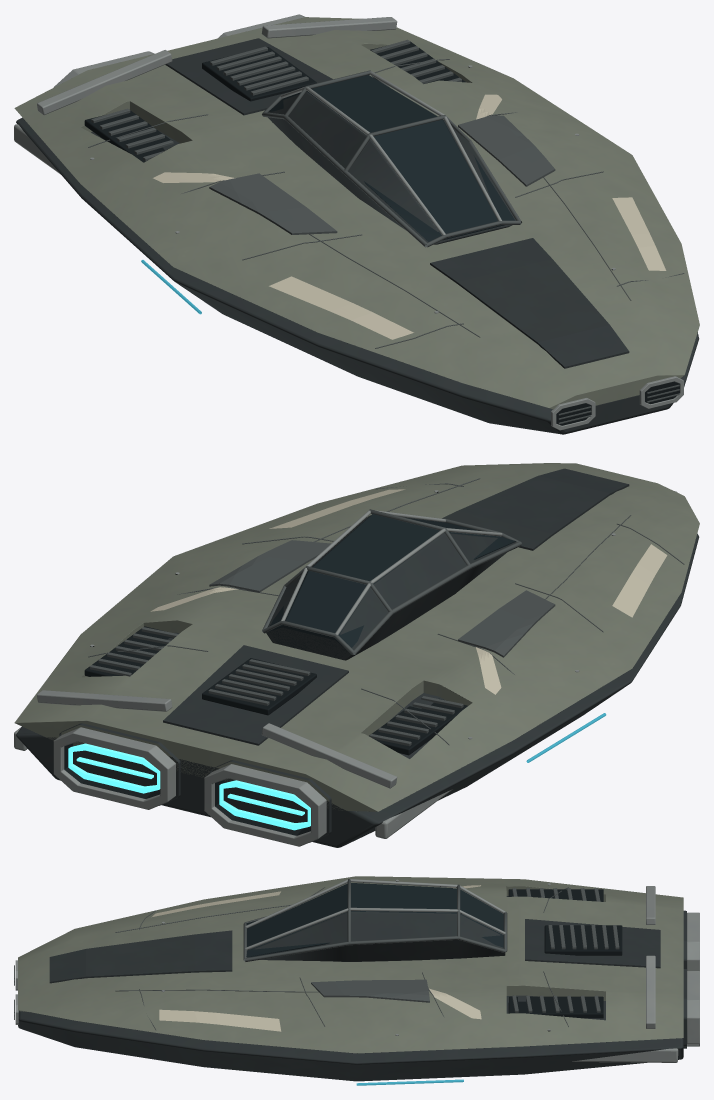
Rendered from rook.glb.
3 views of the same model, one above another, from view 1: azimuth 30°, elevation 25°; view 2: azimuth 150°, elevation 25°; view 3: azimuth 270°, elevation 25° (orthographic). The views are drawn at different scales.
Visible parts, largest first — view 1: rook_Ceramic_Geometry, rook_carbon_Geometry, rook_edge_Geometry, rook_glass_Geometry, rook_metal_Geometry, rook_vent_Geometry, rook_accent_Geometry; view 2: rook_Ceramic_Geometry, rook_carbon_Geometry, rook_edge_Geometry, rook_metal_Geometry, rook_glass_Geometry, rook_vent_Geometry, rook_Ion_Geometry, rook_accent_Geometry; view 3: rook_Ceramic_Geometry, rook_carbon_Geometry, rook_edge_Geometry, rook_glass_Geometry, rook_metal_Geometry, rook_vent_Geometry, rook_accent_Geometry, rook_Induction_Geometry.
Boxes of the visible parts, x1=… form: rook_Ceramic_Geometry: x1=14, y1=17, x2=699, y2=409; rook_carbon_Geometry: x1=16, y1=38, x2=699, y2=434; rook_edge_Geometry: x1=88, y1=39, x2=684, y2=424; rook_glass_Geometry: x1=269, y1=75, x2=514, y2=241; rook_metal_Geometry: x1=14, y1=14, x2=683, y2=430; rook_vent_Geometry: x1=84, y1=41, x2=679, y2=425; rook_accent_Geometry: x1=153, y1=94, x2=666, y2=339; rook_Ceramic_Geometry: x1=14, y1=463, x2=699, y2=811; rook_carbon_Geometry: x1=16, y1=468, x2=699, y2=847; rook_edge_Geometry: x1=88, y1=478, x2=684, y2=746; rook_metal_Geometry: x1=14, y1=490, x2=677, y2=846; rook_glass_Geometry: x1=269, y1=514, x2=516, y2=657; rook_vent_Geometry: x1=64, y1=626, x2=467, y2=835; rook_Ion_Geometry: x1=68, y1=743, x2=310, y2=830; rook_accent_Geometry: x1=150, y1=489, x2=667, y2=694; rook_Ceramic_Geometry: x1=18, y1=876, x2=683, y2=1053; rook_carbon_Geometry: x1=18, y1=896, x2=686, y2=1081; rook_edge_Geometry: x1=14, y1=879, x2=619, y2=1029; rook_glass_Geometry: x1=246, y1=883, x2=503, y2=956; rook_metal_Geometry: x1=15, y1=879, x2=699, y2=1062; rook_vent_Geometry: x1=18, y1=889, x2=622, y2=1018; rook_accent_Geometry: x1=151, y1=885, x2=481, y2=1031; rook_Induction_Geometry: x1=356, y1=1079, x2=463, y2=1085.
Bounding box in the file's own units: 3.84 × 1.27 × 6.28.
Materials: 9 (3 with a texture image).
